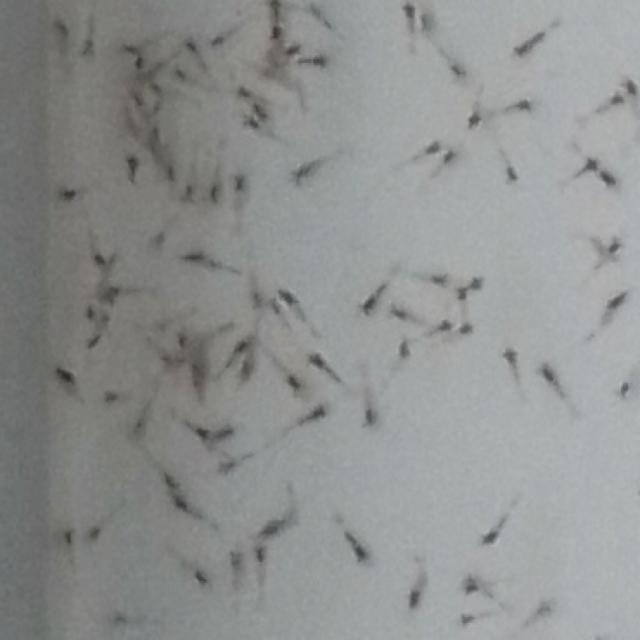shrimp-seed: (514, 32, 542, 58), (184, 248, 215, 270), (54, 366, 77, 388), (387, 302, 408, 324), (125, 154, 141, 182), (500, 346, 520, 368), (161, 471, 181, 492), (608, 288, 626, 311), (110, 608, 130, 628), (398, 333, 414, 358), (310, 50, 330, 70), (80, 38, 98, 60), (421, 14, 439, 36), (406, 586, 424, 608), (227, 548, 246, 568), (51, 15, 69, 36), (449, 61, 467, 82), (538, 362, 556, 383), (513, 96, 534, 114), (258, 520, 278, 538), (480, 526, 498, 546), (308, 402, 326, 422), (360, 410, 378, 430), (308, 352, 326, 372), (58, 184, 76, 204), (148, 231, 166, 251), (288, 372, 306, 392), (130, 415, 147, 435), (430, 270, 448, 288), (182, 36, 200, 54), (252, 102, 270, 120), (61, 526, 77, 546), (194, 568, 210, 588), (252, 544, 268, 564), (232, 172, 248, 192), (238, 360, 254, 380), (359, 296, 376, 314), (503, 165, 520, 183), (290, 166, 308, 183), (130, 88, 146, 107), (206, 184, 222, 203), (355, 544, 370, 564), (582, 156, 598, 174), (602, 169, 618, 187), (621, 77, 637, 95), (467, 113, 483, 131), (440, 148, 458, 164), (306, 0, 322, 18), (173, 66, 189, 84), (160, 351, 176, 369), (437, 317, 453, 334), (268, 22, 284, 39), (174, 333, 190, 350), (194, 424, 209, 442), (209, 31, 224, 49), (89, 250, 104, 268), (278, 289, 296, 304), (188, 374, 206, 389), (162, 165, 176, 184), (180, 182, 194, 201), (270, 298, 284, 317), (462, 582, 478, 598), (614, 382, 630, 398), (218, 460, 234, 476), (456, 286, 472, 302), (424, 138, 440, 154), (243, 114, 259, 130), (248, 294, 264, 310), (100, 290, 116, 306), (122, 42, 140, 56), (232, 337, 246, 355), (402, 4, 417, 20), (460, 612, 475, 628), (218, 424, 234, 439), (88, 524, 101, 542), (284, 508, 298, 524), (536, 598, 550, 614), (173, 496, 187, 512), (102, 387, 116, 403), (470, 276, 484, 292), (610, 90, 624, 106), (234, 84, 250, 98), (146, 140, 160, 156), (84, 306, 98, 322), (610, 236, 622, 254), (460, 321, 474, 336), (592, 238, 606, 253), (136, 70, 151, 84), (86, 334, 100, 349), (154, 317, 168, 332), (267, 0, 283, 13), (288, 43, 302, 56), (150, 127, 164, 140), (98, 313, 112, 326), (134, 54, 144, 72), (466, 572, 478, 586), (150, 82, 164, 94), (109, 284, 121, 298), (191, 362, 202, 374)
